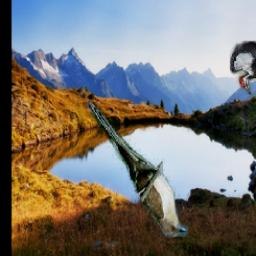Cuckoo: (87, 95, 190, 238)
Woodpecker: (230, 41, 256, 95)
